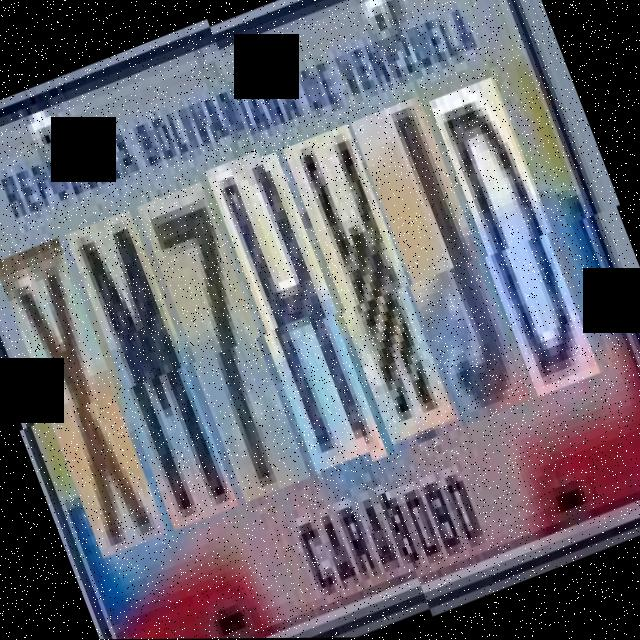7: (140, 189, 318, 510)
D: (429, 77, 606, 397)
H: (208, 152, 392, 481)
J: (350, 96, 536, 426)
M: (68, 217, 246, 538)
W: (284, 124, 461, 444)
X: (0, 244, 174, 565)
